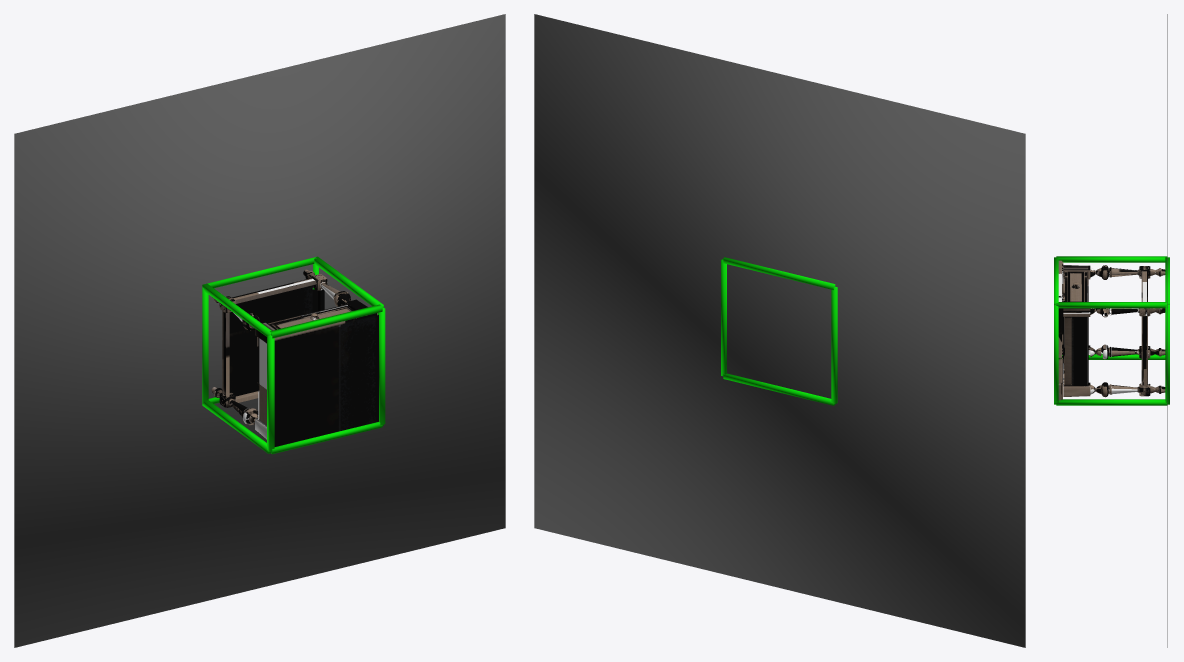
3 renders of one model, left to right at view 1: azimuth 30°, elevation 25°; view 2: azimuth 150°, elevation 25°; view 3: azimuth 270°, elevation 25°, orthographic. The views are drawn at different scales.
Size of the model in its own units: 2 by 2 by 0.4863.
